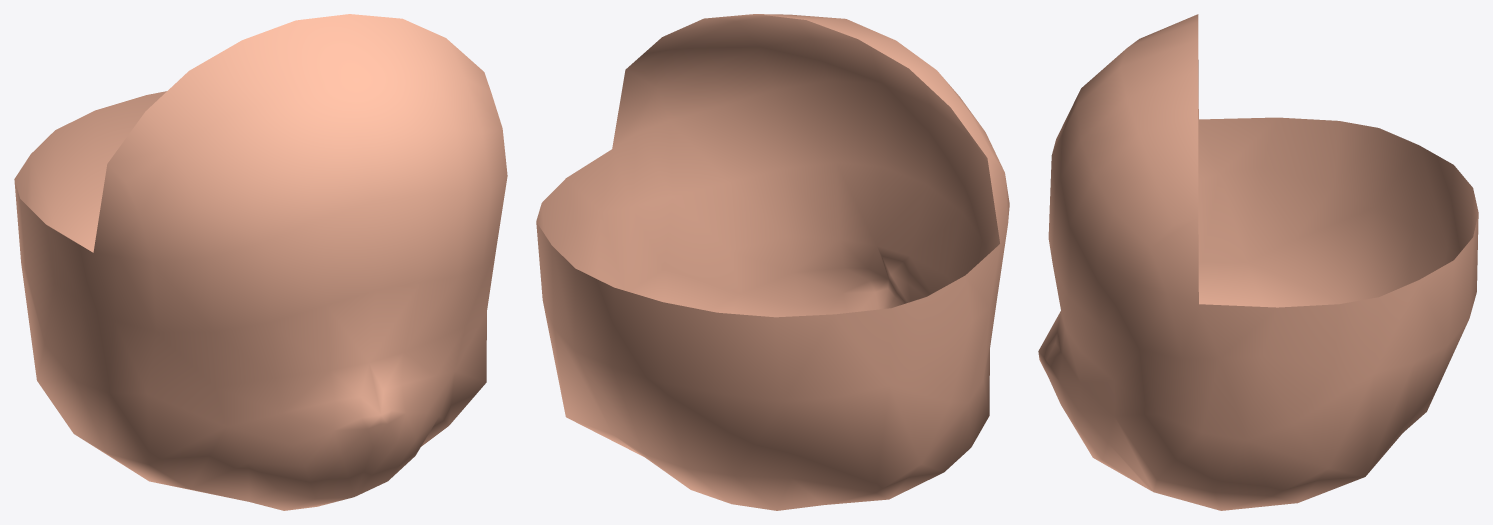
3 renders of one model, left to right at view 1: azimuth 30°, elevation 25°; view 2: azimuth 150°, elevation 25°; view 3: azimuth 270°, elevation 25°, orthographic. The views are drawn at different scales.
Parts seen in each view (by area): view 1: AF_M_Face_14; view 2: AF_M_Face_14; view 3: AF_M_Face_14.
Boxes of the visible parts, bbox=[...] form: AF_M_Face_14: bbox=[14, 14, 507, 510]; AF_M_Face_14: bbox=[536, 14, 1009, 510]; AF_M_Face_14: bbox=[1038, 14, 1478, 510].
Size of the model in its own units: 675 by 731 by 661.
Materials: 1 (1 with a texture image).
